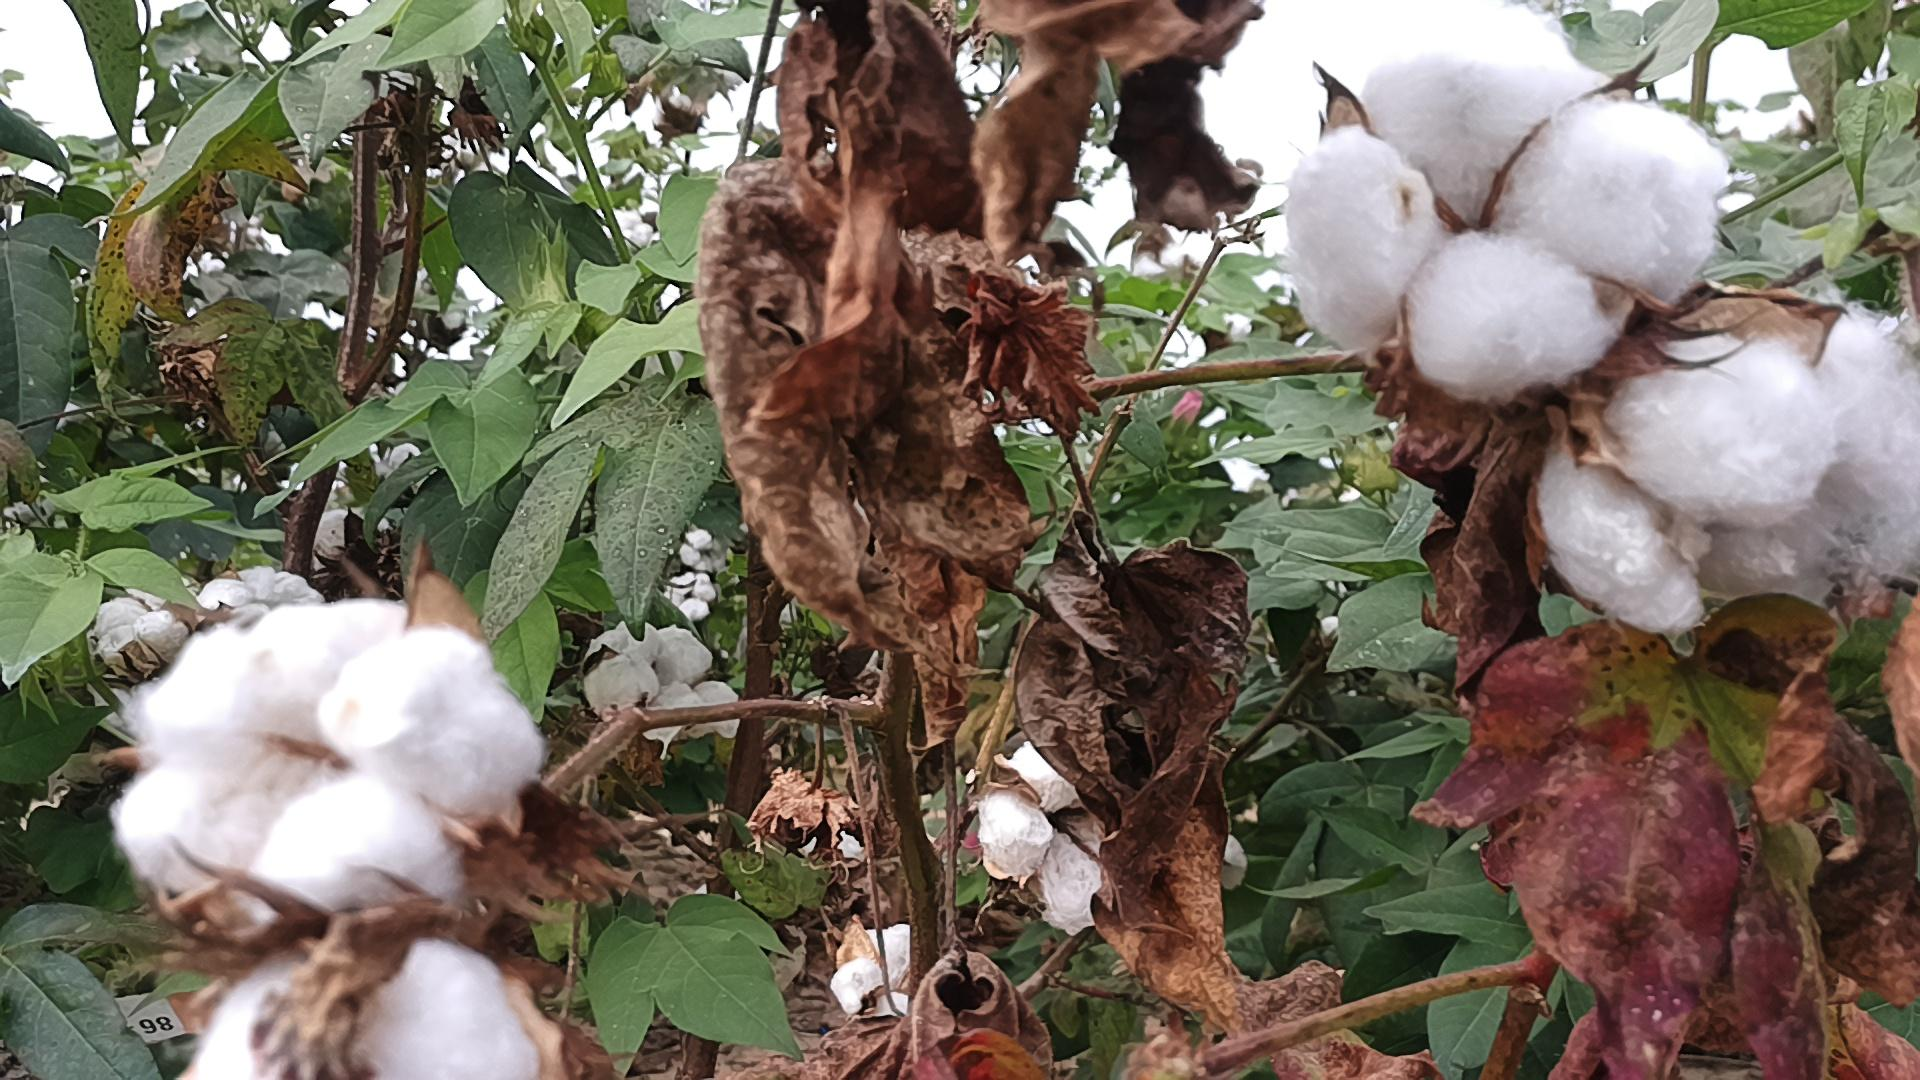cotton_ready: (1290, 53, 1716, 403), (114, 598, 545, 907), (1536, 309, 1920, 634), (188, 936, 548, 1080), (980, 730, 1111, 935), (583, 629, 742, 749)
